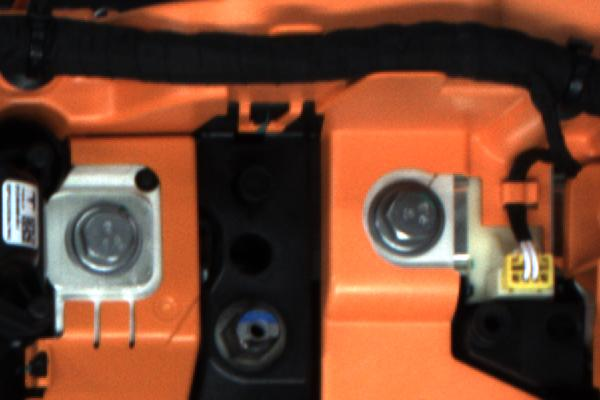nut_b: (61, 200, 152, 283), (360, 178, 446, 264)
